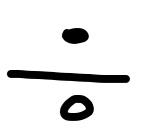div: (6, 28, 131, 121)
